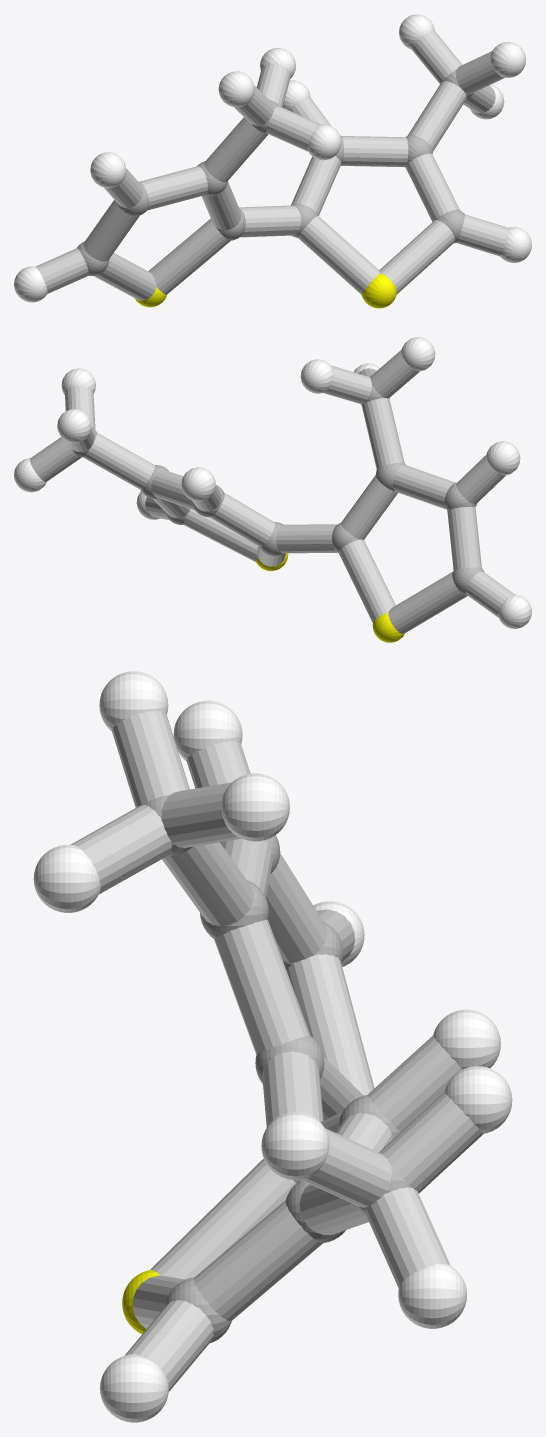
File: Methylthiophene_Phi_20_Theta_110_Methylthiophene.glb
The picture shows the model from 3 angles, top to bottom: view 1: azimuth 30°, elevation 25°; view 2: azimuth 150°, elevation 25°; view 3: azimuth 270°, elevation 25°; orthographic projection. The views are drawn at different scales.
Parts seen in each view (by area): view 1: grp7965, grp3621, grp1, grp7241; view 2: grp7965, grp3621, grp1, grp7241; view 3: grp7965, grp3621, grp1.
Part boxes in pixels (<box>): grp7965: <box>35,30,509,300</box>; grp3621: <box>14,14,531,302</box>; grp1: <box>77,70,473,275</box>; grp7241: <box>134,273,396,308</box>; grp7965: <box>29,350,514,633</box>; grp3621: <box>14,337,531,628</box>; grp1: <box>72,376,484,595</box>; grp7241: <box>256,553,404,642</box>; grp7965: <box>70,711,483,1391</box>; grp3621: <box>33,671,512,1422</box>; grp1: <box>144,794,411,1343</box>.
Bounding box in the file's own units: 9.8 × 5.02 × 4.17.
